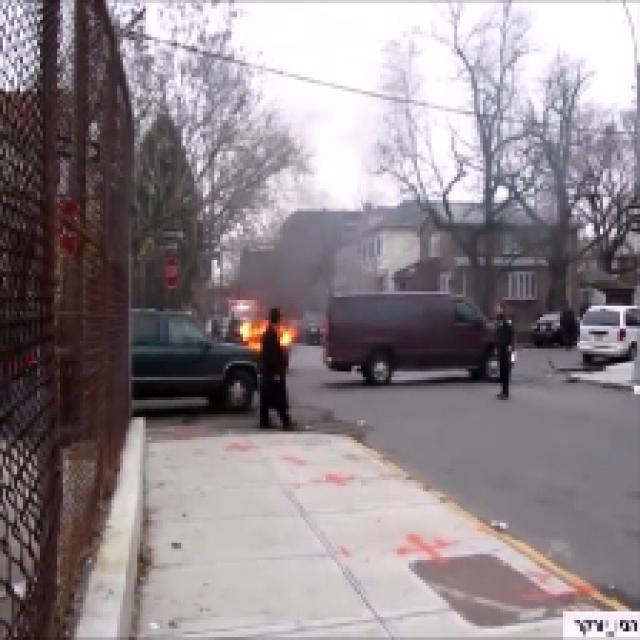Fire: (242, 312, 312, 357)
Smoke: (240, 166, 349, 303)
